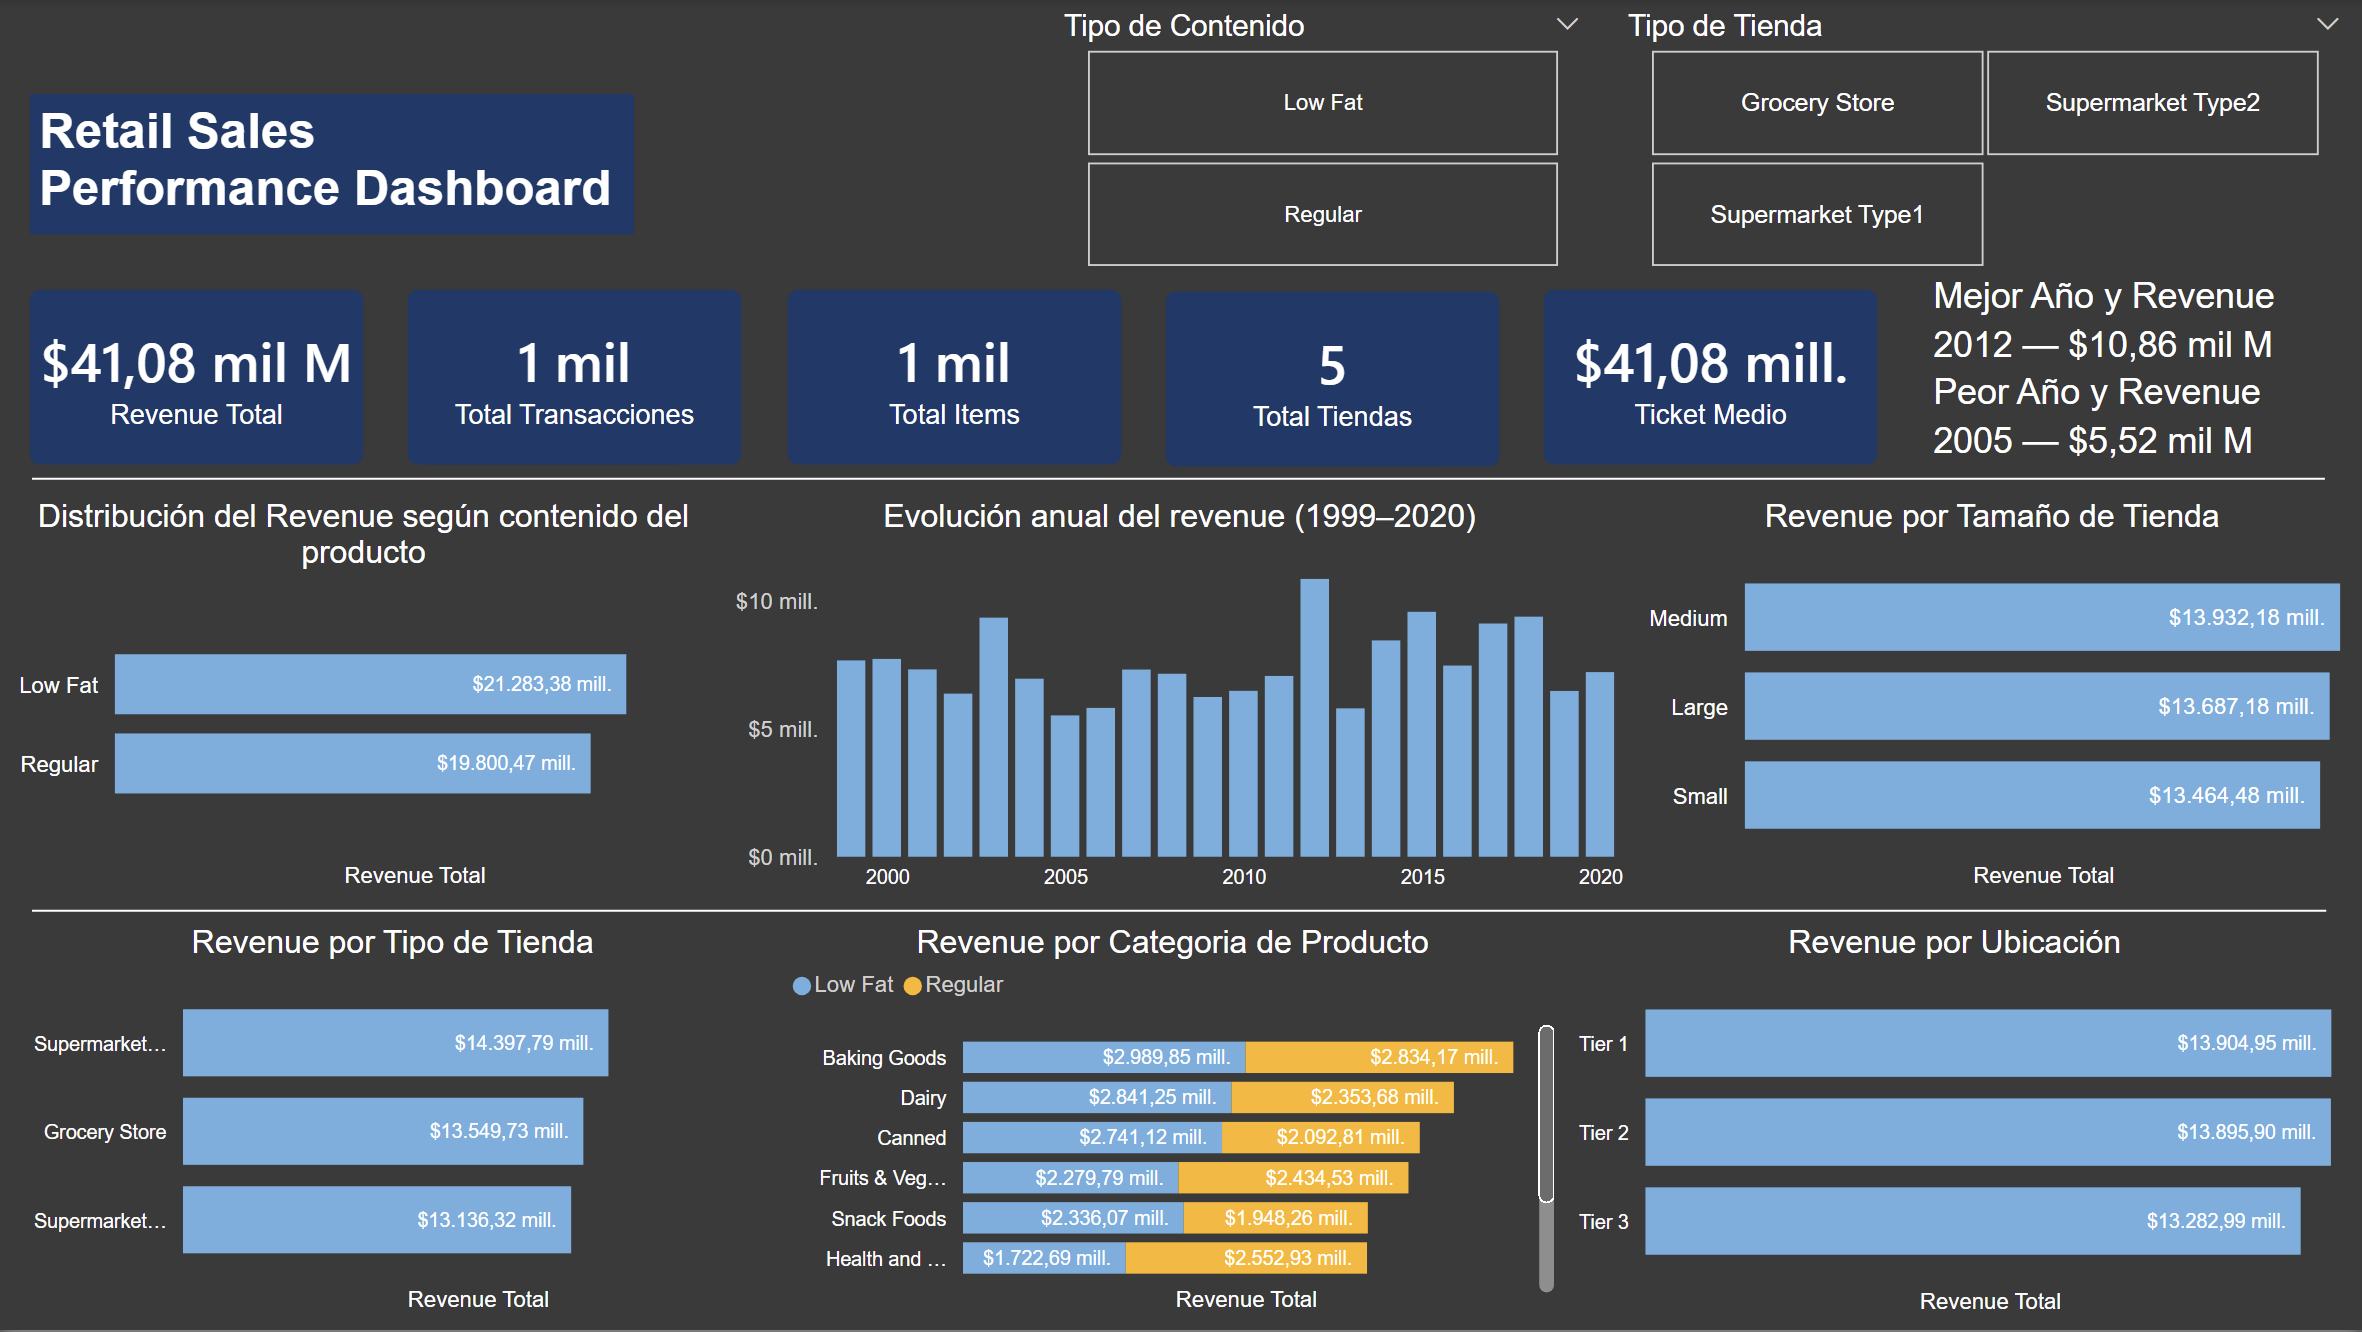

Layout of this report page (visuals, bound fields, positions):
{"tool":"powerbi","page":{"name":"Overview","canvas":[1280,720],"ordinal":0},"visuals":[{"type":"cardVisual","fields":{"Data":["_Medidas.Revenue Total"]},"box":[0,140,215,129.1],"z":0},{"type":"barChart","title":"Revenue por Tipo de Tienda","fields":{"Category":["medium_sales_dataset.Outlet_Type"],"Y":["_Medidas.Revenue Total"]},"box":[2,500,423,215],"z":1000},{"type":"barChart","title":"Revenue por Categoria de Producto","fields":{"Category":["medium_sales_dataset.Item_Type"],"Y":["_Medidas.Revenue Total"],"Series":["medium_sales_dataset.Item_Fat_Content"]},"box":[425,500,423,215],"z":2000},{"type":"barChart","title":"Revenue por Ubicación","fields":{"Category":["medium_sales_dataset.Outlet_Location_Type"],"Y":["_Medidas.Revenue Total"]},"box":[848.2,500.4,423,215.9],"z":3000},{"type":"slicer","fields":{"Values":["medium_sales_dataset.Item_Fat_Content"]},"box":[564.4,0,304.6,151.1],"z":4000},{"type":"textbox","box":[17,51.1,326.8,76],"z":5000},{"type":"cardVisual","fields":{"Data":["_Medidas.Total Transacciones"]},"box":[205,140,215,129.1],"z":6000},{"type":"cardVisual","fields":{"Data":["_Medidas.Total Tiendas"]},"box":[615,140.6,215,129.1],"z":7000},{"type":"cardVisual","fields":{"Data":["_Medidas.Total Items"]},"box":[410,140,215,129.1],"z":8000},{"type":"cardVisual","fields":{"Data":["_Medidas.Ticket Medio"]},"box":[820,140,215,129.4],"z":9000},{"type":"barChart","title":"Distribución del Revenue según contenido del producto","fields":{"Category":["medium_sales_dataset.Item_Fat_Content"],"Y":["_Medidas.Revenue Total"]},"box":[2.2,269.3,391.4,215.9],"z":10000},{"type":"shape","box":[18.7,230.6,1241.6,57.1],"z":11000},{"type":"clusteredColumnChart","title":"Evolución anual del revenue (1999–2020)","fields":{"Category":["medium_sales_dataset.Outlet_Establishment_Year"],"Y":["Sum(medium_sales_dataset.Item_Outlet_Sales)"]},"box":[394,269.3,491,220.2],"z":12000},{"type":"shape","box":[18,465,1242.3,57.1],"z":13000},{"type":"slicer","fields":{"Values":["medium_sales_dataset.Outlet_Type"]},"box":[869.1,0,410.9,151.1],"z":14000},{"type":"clusteredBarChart","title":"Revenue por Tamaño de Tienda","fields":{"Y":["_Medidas.Revenue Total"],"Category":["medium_sales_dataset.Outlet_Size"]},"box":[885,269.3,390,215.9],"z":15000},{"type":"multiRowCard","title":"Mejor Año y Revenue","fields":{"Values":["_Medidas.Mejor Ano & Revenue"]},"box":[1042.3,149.4,218.1,56.7],"z":16000},{"type":"multiRowCard","title":"Peor Año y Revenue","fields":{"Values":["_Medidas.Peor Ano y Revenue"]},"box":[1042.3,201.7,218.1,56],"z":17000}]}

Visuals, with their boxes in screenshot pixels (x1, y1, x2, y2), scaled from the page's 1280x720 canvas onto the 2362x1332 screenshot:
cardVisual - _Medidas.Revenue Total: bbox=[0, 259, 397, 498]
"Revenue por Tipo de Tienda" barChart: bbox=[4, 925, 784, 1323]
"Revenue por Categoria de Producto" barChart: bbox=[784, 925, 1565, 1323]
"Revenue por Ubicación" barChart: bbox=[1565, 926, 2346, 1325]
slicer - medium_sales_dataset.Item_Fat_Content: bbox=[1041, 0, 1604, 280]
textbox: bbox=[31, 95, 634, 235]
cardVisual - _Medidas.Total Transacciones: bbox=[378, 259, 775, 498]
cardVisual - _Medidas.Total Tiendas: bbox=[1135, 260, 1532, 499]
cardVisual - _Medidas.Total Items: bbox=[757, 259, 1153, 498]
cardVisual - _Medidas.Ticket Medio: bbox=[1513, 259, 1910, 498]
"Distribución del Revenue según contenido del producto" barChart: bbox=[4, 498, 726, 898]
shape: bbox=[35, 427, 2326, 532]
"Evolución anual del revenue (1999–2020)" clusteredColumnChart: bbox=[727, 498, 1633, 906]
shape: bbox=[33, 860, 2326, 966]
slicer - medium_sales_dataset.Outlet_Type: bbox=[1604, 0, 2361, 280]
"Revenue por Tamaño de Tienda" clusteredBarChart: bbox=[1633, 498, 2353, 898]
"Mejor Año y Revenue" multiRowCard: bbox=[1923, 276, 2326, 381]
"Peor Año y Revenue" multiRowCard: bbox=[1923, 373, 2326, 477]
